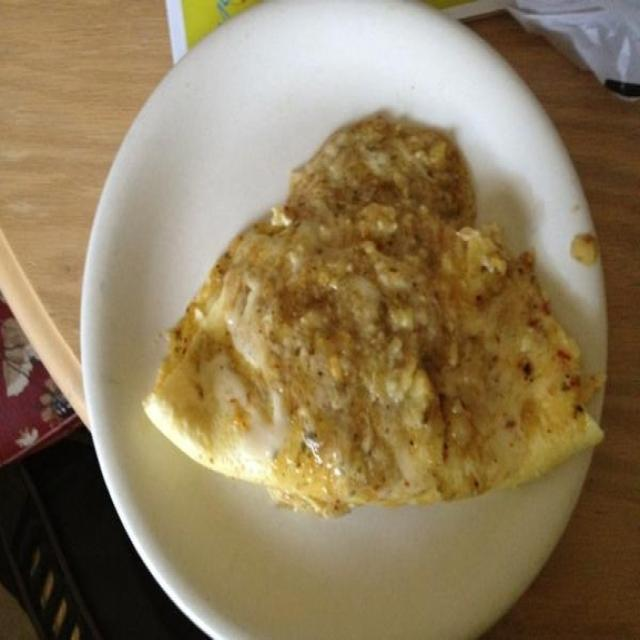面包点心: (58, 27, 618, 618)
